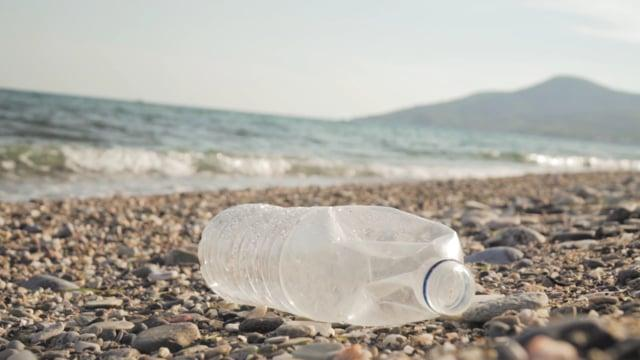bottle: (195, 197, 486, 339)
